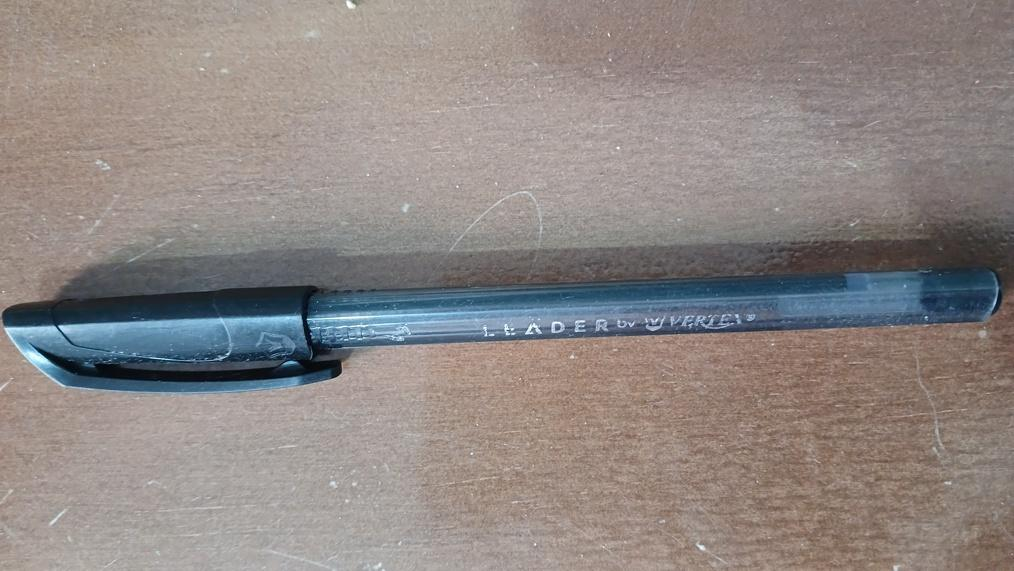pen: (2, 268, 996, 390)
